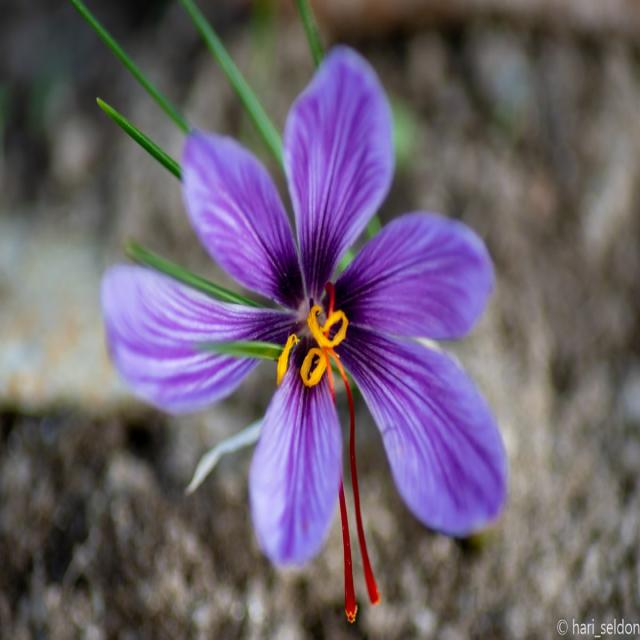saffron open: (102, 47, 506, 585)
